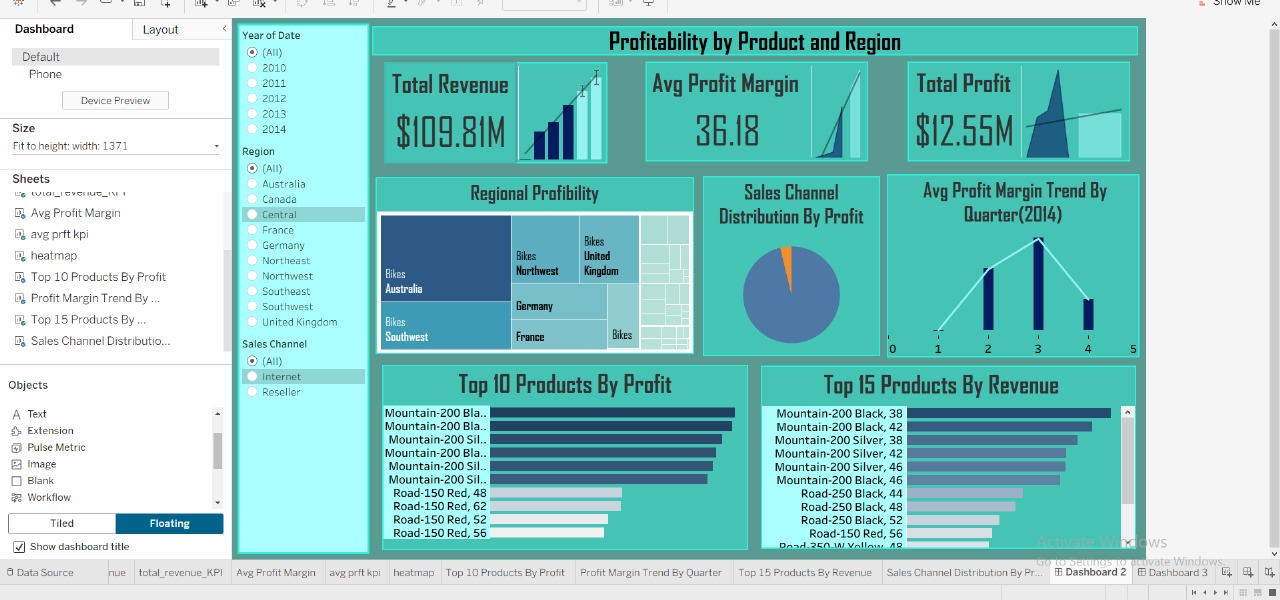

The dashboard page shown, as its layout file describes it:
{"tool":"tableau","page":{"name":"Profitability by Product and Region","canvas":[1657,811],"ordinal":0},"visuals":[{"type":"title","box":[247.4,8,1401.6,55]},{"type":"filter","title":"Profit Margin Trend By Quarter","param":"[federated.05z4ryz0a0kx7j171rlx51opc7zn].[yr:Date:ok]","box":[11,11,233.4,174]},{"type":"blank","box":[247.4,63,1401.6,168]},{"type":"worksheet","title":"Avg Profit Margin","mark":"Automatic","box":[751.3,66.9,242,145.8]},{"type":"worksheet","title":"avg prft kpi","mark":"Area","rows":["ProfitMargin"],"cols":["Date"],"box":[993.3,66.9,157.6,145.8]},{"type":"worksheet","title":"Total_Profit","mark":"Automatic","box":[1226,67,200,146]},{"type":"worksheet","title":"total_profit_KPI","mark":"Area","rows":["Profit "],"cols":["Date"],"box":[1426,67,200,146]},{"type":"worksheet","title":"total revenue","mark":"Automatic","box":[277.6,67.9,195,147.8]},{"type":"worksheet","title":"total_revenue_KPI","mark":"Bar","rows":["Revenue "],"cols":["Date"],"box":[472.6,67.9,205.8,147.8]},{"type":"filter","title":"Sales Channel Distribution By Profit","param":"[federated.05z4ryz0a0kx7j171rlx51opc7zn].[none:Region:nk]","box":[11,185,233.4,289]},{"type":"worksheet","title":"Sales Channel Distribution By Profit","mark":"Pie","box":[848.5,232.7,331.2,277.7]},{"type":"worksheet","title":"heatmap","mark":"Automatic","box":[255,233.7,587.4,273.7]},{"type":"worksheet","title":"Profit Margin Trend By Quarter","mark":"Bar","rows":["ProfitMargin","ProfitMargin"],"cols":["Date"],"box":[1186.9,233.7,458.1,274.7]},{"type":"filter","title":"Sales Channel Distribution By Profit","param":"[federated.05z4ryz0a0kx7j171rlx51opc7zn].[none:SalesChannel:nk]","box":[11,474,233.4,105]},{"type":"worksheet","title":"Top 10 Products By Profit","mark":"Automatic","rows":["Product"],"cols":["Profit "],"box":[267.1,515.4,673.2,285.7]},{"type":"worksheet","title":"Top 15 Products By Revenue","mark":"Automatic","rows":["Product"],"cols":["Revenue "],"box":[953.6,516.4,690.1,282.6]}]}

Visuals, with their boxes on the page's 1657x811 design canvas (x1, y1, x2, y2). These are canvas units, not pixel positions in the 1280x600 screenshot, which may show the page scaled, cropped or inside an application window:
title: {"x1": 247, "y1": 8, "x2": 1649, "y2": 63}
"Profit Margin Trend By Quarter" filter: {"x1": 11, "y1": 11, "x2": 244, "y2": 185}
blank: {"x1": 247, "y1": 63, "x2": 1649, "y2": 231}
"Avg Profit Margin" worksheet: {"x1": 751, "y1": 67, "x2": 993, "y2": 213}
"avg prft kpi" worksheet (Area marks): {"x1": 993, "y1": 67, "x2": 1151, "y2": 213}
"Total_Profit" worksheet: {"x1": 1226, "y1": 67, "x2": 1426, "y2": 213}
"total_profit_KPI" worksheet (Area marks): {"x1": 1426, "y1": 67, "x2": 1626, "y2": 213}
"total revenue" worksheet: {"x1": 278, "y1": 68, "x2": 473, "y2": 216}
"total_revenue_KPI" worksheet (Bar marks): {"x1": 473, "y1": 68, "x2": 678, "y2": 216}
"Sales Channel Distribution By Profit" filter: {"x1": 11, "y1": 185, "x2": 244, "y2": 474}
"Sales Channel Distribution By Profit" worksheet (Pie marks): {"x1": 848, "y1": 233, "x2": 1180, "y2": 510}
"heatmap" worksheet: {"x1": 255, "y1": 234, "x2": 842, "y2": 507}
"Profit Margin Trend By Quarter" worksheet (Bar marks): {"x1": 1187, "y1": 234, "x2": 1645, "y2": 508}
"Sales Channel Distribution By Profit" filter: {"x1": 11, "y1": 474, "x2": 244, "y2": 579}
"Top 10 Products By Profit" worksheet: {"x1": 267, "y1": 515, "x2": 940, "y2": 801}
"Top 15 Products By Revenue" worksheet: {"x1": 954, "y1": 516, "x2": 1644, "y2": 799}
